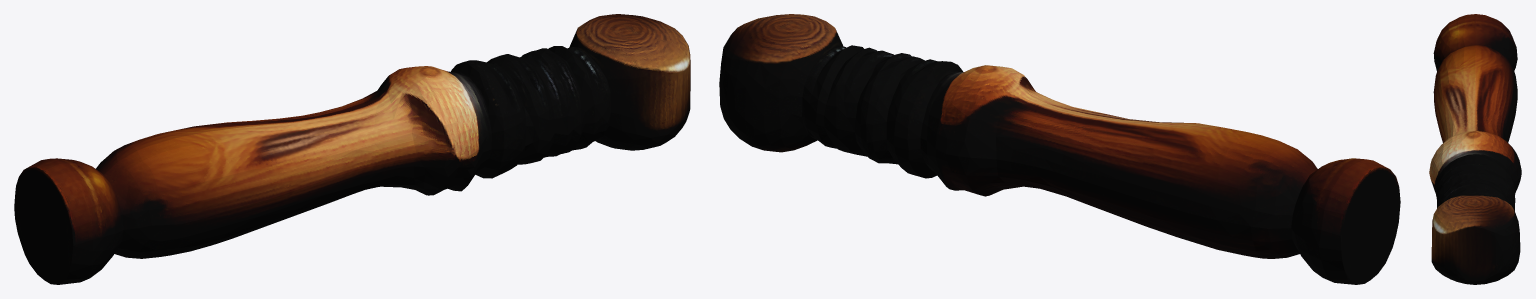
File: wooden-corkscrew-handle-horror.jpeg.glb
3 views of the same model, side by side, from view 1: azimuth 30°, elevation 25°; view 2: azimuth 150°, elevation 25°; view 3: azimuth 270°, elevation 25° (orthographic). The views are drawn at different scales.
Parts seen in each view (by area): view 1: world; view 2: world; view 3: world.
Boxes of the visible parts, x1,y1,x2,y2 form: world: (14,14,690,284); world: (719,14,1400,284); world: (1429,14,1521,284).
Size of the model in its own units: 1 by 0.1819 by 0.1905.
Materials: 1 (1 with a texture image).
